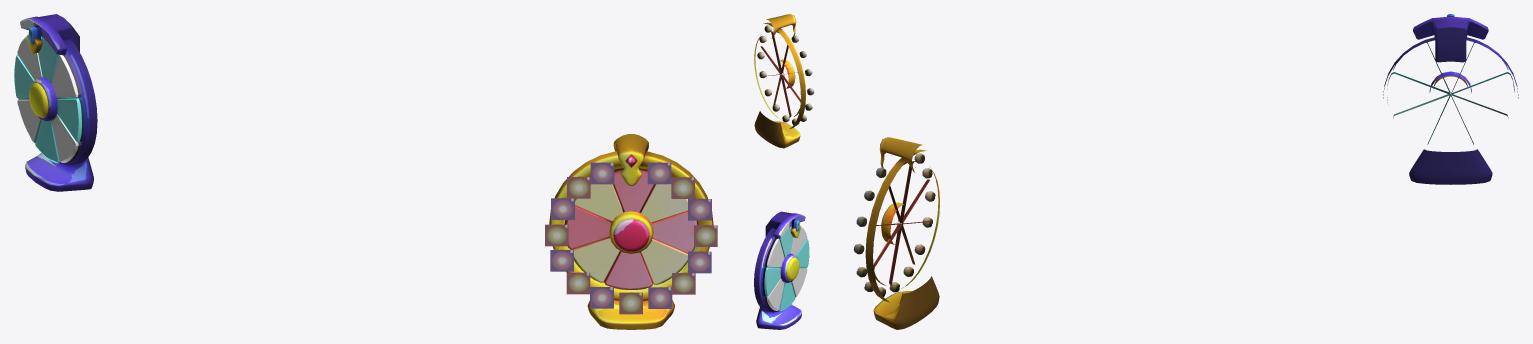
The model's file is Lottery.glb.
3 views of the same model, side by side, from view 1: azimuth 30°, elevation 25°; view 2: azimuth 150°, elevation 25°; view 3: azimuth 270°, elevation 25° (orthographic). The views are drawn at different scales.
Visible parts, largest first — view 1: bottom (×2), Turntable2, Turntable1, turntable1, turntable2, Button, light01, light15, light10, light08, light12, light05 (+10 smaller); view 2: bottom (×2), turntable1, turntable2, light, Turntable2, Turntable1, buttan, bottom2, arrow; view 3: bottom (×2), light, Turntable2, Turntable1.
Part boxes in pixels (bbox=[...]): bottom (×2): bbox=[20, 14, 713, 329]; Turntable2: bbox=[570, 184, 687, 284]; Turntable1: bbox=[564, 168, 697, 289]; turntable1: bbox=[17, 36, 81, 162]; turntable2: bbox=[14, 36, 84, 163]; Button: bbox=[613, 154, 649, 251]; light01: bbox=[647, 162, 671, 184]; light15: bbox=[590, 162, 614, 184]; light10: bbox=[566, 272, 590, 294]; light08: bbox=[619, 292, 642, 314]; light12: bbox=[545, 224, 568, 246]; light05: bbox=[688, 251, 711, 273]; bottom (×2): bbox=[754, 14, 805, 329]; turntable1: bbox=[764, 226, 807, 310]; turntable2: bbox=[762, 226, 809, 310]; light: bbox=[757, 25, 814, 124]; Turntable2: bbox=[762, 31, 800, 116]; Turntable1: bbox=[760, 31, 797, 117]; buttan: bbox=[786, 257, 799, 280]; bottom2: bbox=[791, 219, 799, 231]; arrow: bbox=[790, 225, 800, 237]; bottom (×2): bbox=[865, 16, 1518, 329]; light: bbox=[853, 153, 935, 296]; Turntable2: bbox=[873, 161, 930, 285]; Turntable1: bbox=[876, 162, 929, 285].
Bounding box in the file's own units: 13.16 × 5.86 × 20.99.
13 materials, 13 textured.
